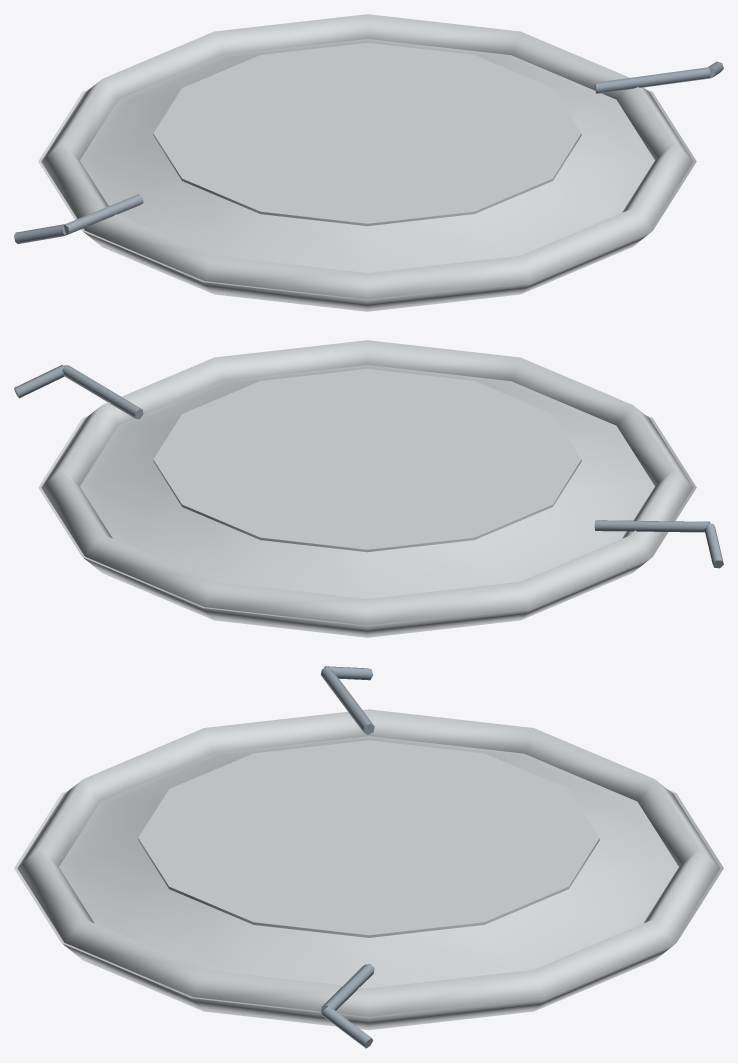
The model's file is source.glb.
3 views of the same model, one above another, from view 1: azimuth 30°, elevation 25°; view 2: azimuth 150°, elevation 25°; view 3: azimuth 270°, elevation 25° (orthographic). The views are drawn at different scales.
Parts seen in each view (by area): view 1: 粉末涂层铝壳, 机加工金属; view 2: 粉末涂层铝壳, 机加工金属; view 3: 粉末涂层铝壳, 机加工金属.
Boxes of the visible parts, left/top/right/bottom form: 粉末涂层铝壳: left=38, top=14, right=696, bottom=311; 机加工金属: left=14, top=61, right=723, bottom=243; 粉末涂层铝壳: left=38, top=340, right=696, bottom=637; 机加工金属: left=14, top=365, right=723, bottom=568; 粉末涂层铝壳: left=14, top=709, right=723, bottom=1030; 机加工金属: left=320, top=666, right=374, bottom=1048.
Size of the model in its own units: 0.2113 by 0.0144 by 0.17.
